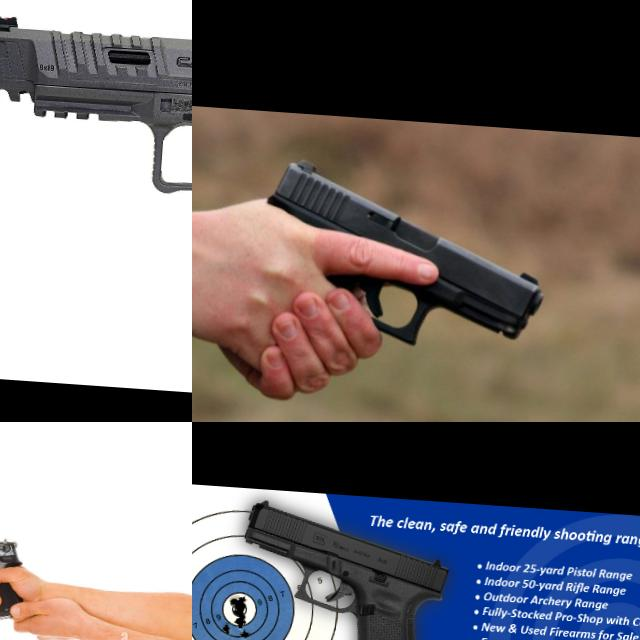handgun: (0, 4, 192, 372), (255, 156, 556, 358), (231, 495, 455, 640), (0, 529, 58, 588)
